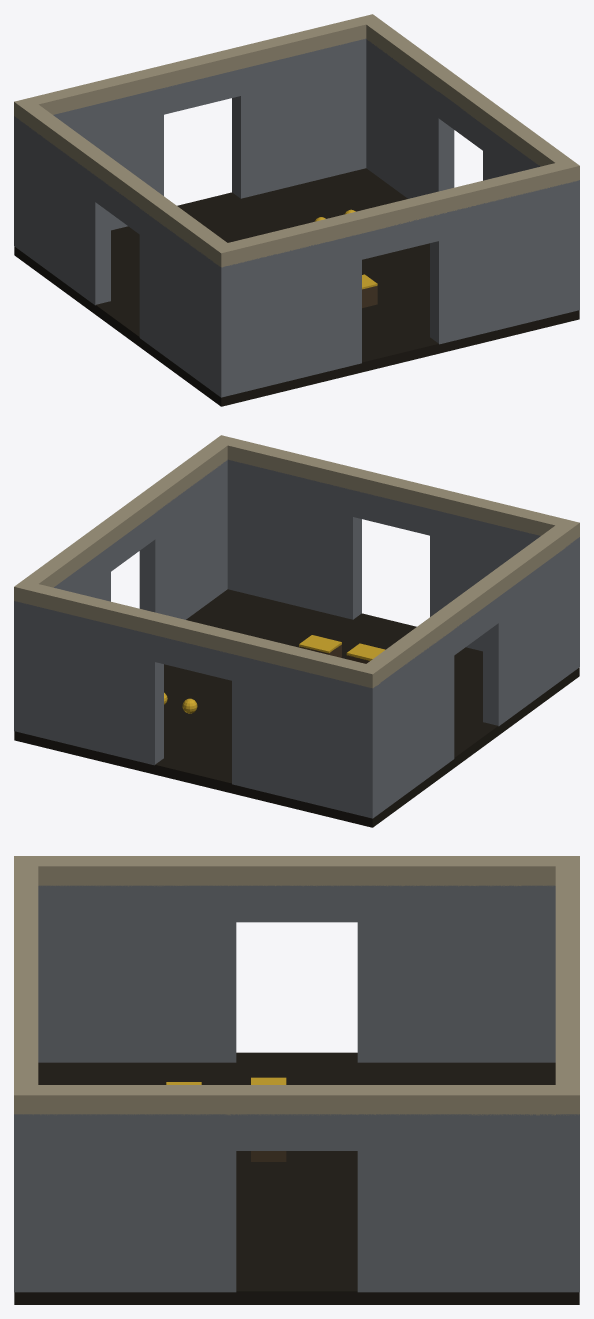
Rendered from TreasuryVault.fbx.
3 renders of one model, top to bottom at view 1: azimuth 30°, elevation 25°; view 2: azimuth 150°, elevation 25°; view 3: azimuth 270°, elevation 25°, orthographic. The views are drawn at different scales.
Parts seen in each view (by area): view 1: TreasuryVault; view 2: TreasuryVault; view 3: TreasuryVault.
Part boxes in pixels (box(x1,y1,x2,y2)): TreasuryVault: box(14, 14, 579, 406); TreasuryVault: box(14, 435, 579, 827); TreasuryVault: box(14, 856, 579, 1304).
Bounding box in the file's own units: 1202 × 492 × 1202.
5 materials, 5 textured.
